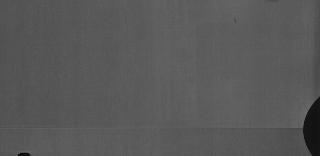punching hole: (15, 150, 31, 156)
welding line: (0, 122, 306, 132)
